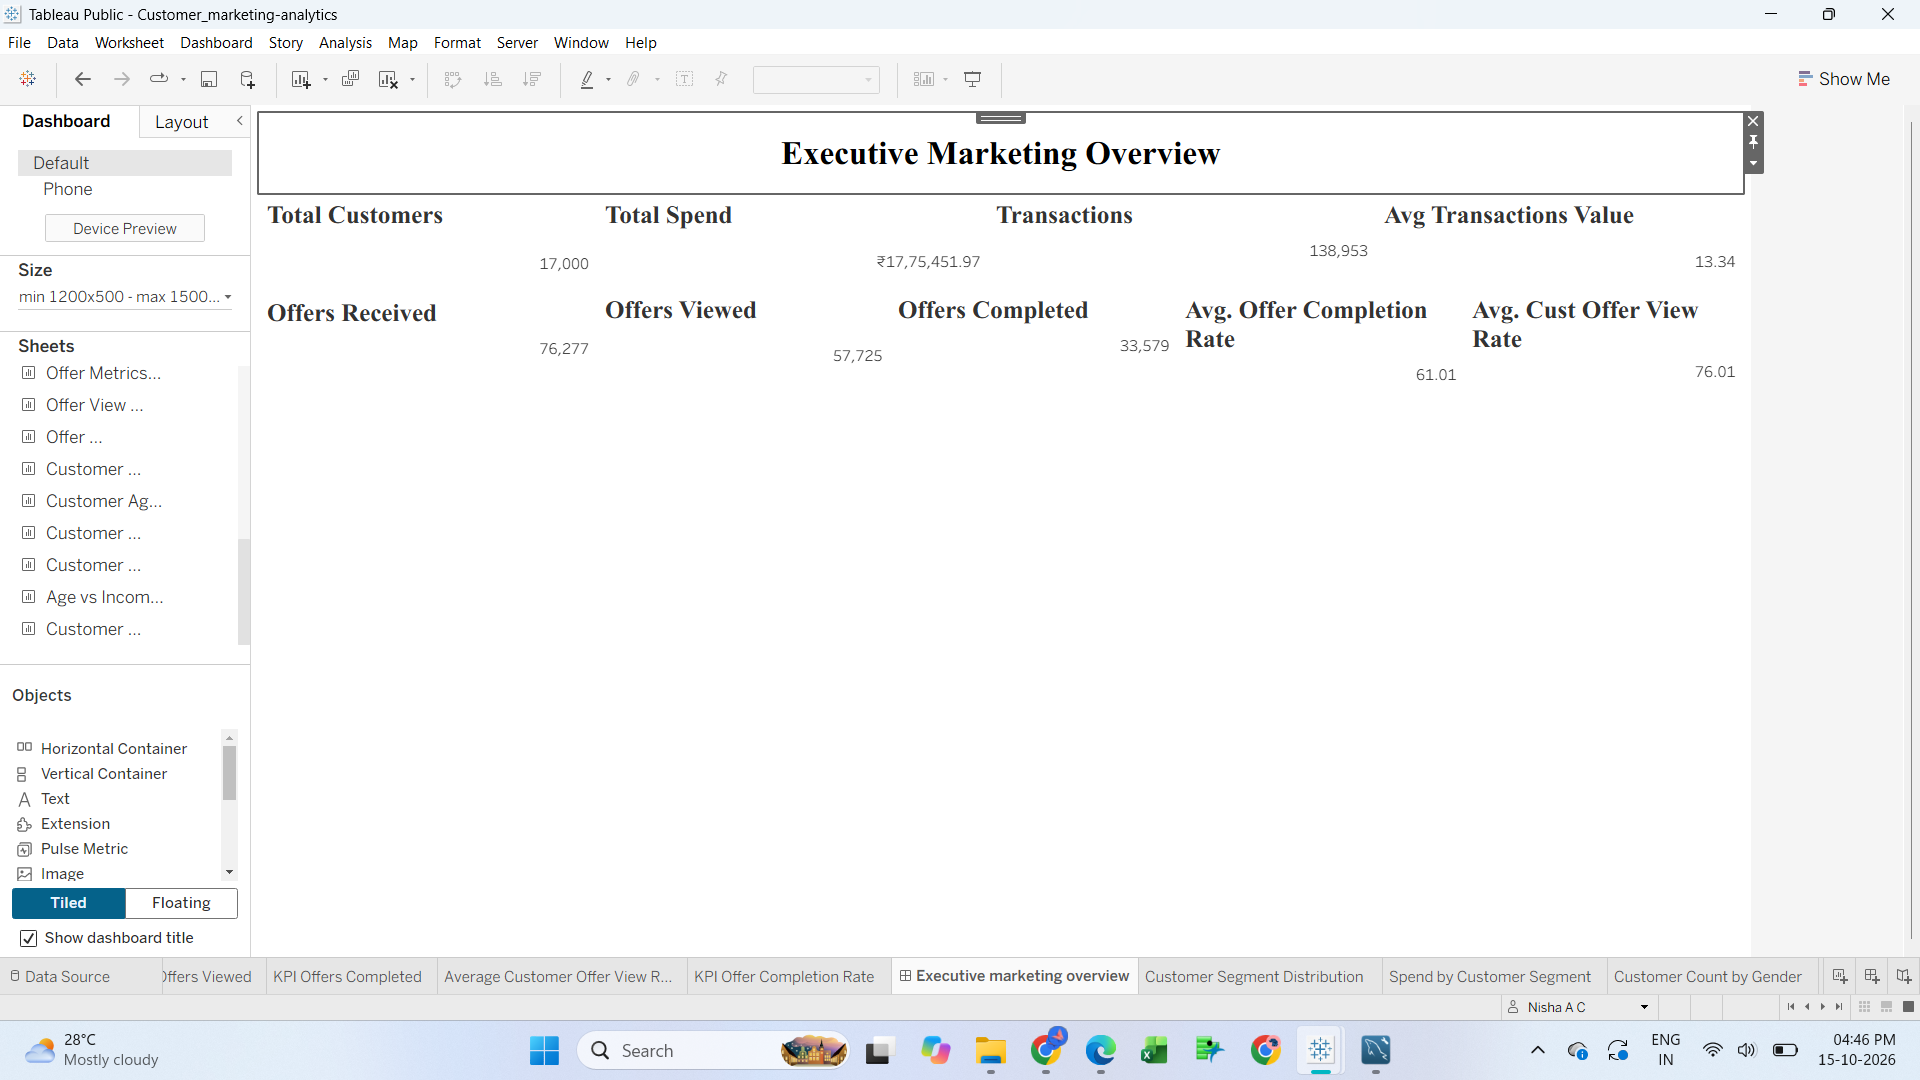

The dashboard page shown, as its layout file describes it:
{"tool":"tableau","page":{"name":"Executive marketing overview","canvas":[1000,1000],"units":"permille","ordinal":2},"visuals":[{"type":"title","box":[5.3,9.4,989.3,93.9]},{"type":"worksheet","title":"KPI Total Customers","mark":"Automatic","box":[5.3,103.3,225.3,115]},{"type":"worksheet","title":"KPI Total Spend","mark":"Automatic","box":[230.6,103.3,260.7,112]},{"type":"worksheet","title":"KPI Total Transactions","mark":"Automatic","box":[491.3,103.3,258.7,112]},{"type":"worksheet","title":"KPI Avg Transaction Value","mark":"Automatic","box":[750,103.3,244.7,112]},{"type":"worksheet","title":"KPI Offers Viewed","mark":"Automatic","box":[230.6,215.3,195.3,109.2]},{"type":"worksheet","title":"KPI Offers Completed","mark":"Automatic","box":[426,215.3,191.3,110.3]},{"type":"worksheet","title":"KPI Offer Completion Rate","mark":"Automatic","box":[617.3,215.3,191.3,119.7]},{"type":"worksheet","title":"Average Customer Offer View Rate","mark":"Automatic","box":[808.6,215.3,186,112.7]},{"type":"worksheet","title":"KPI Offers Received","mark":"Automatic","box":[5.3,218.3,225.3,95.1]}]}

Visuals, with their boxes on the dashboard's canvas, which has no fixed pixel size, in thousandths of its width and height (x1, y1, x2, y2). These are canvas units, not pixel positions in the 1920x1080 screenshot, which may show the page scaled, cropped or inside an application window:
title: <region>5, 9, 995, 103</region>
"KPI Total Customers" worksheet: <region>5, 103, 231, 218</region>
"KPI Total Spend" worksheet: <region>231, 103, 491, 215</region>
"KPI Total Transactions" worksheet: <region>491, 103, 750, 215</region>
"KPI Avg Transaction Value" worksheet: <region>750, 103, 995, 215</region>
"KPI Offers Viewed" worksheet: <region>231, 215, 426, 324</region>
"KPI Offers Completed" worksheet: <region>426, 215, 617, 326</region>
"KPI Offer Completion Rate" worksheet: <region>617, 215, 809, 335</region>
"Average Customer Offer View Rate" worksheet: <region>809, 215, 995, 328</region>
"KPI Offers Received" worksheet: <region>5, 218, 231, 313</region>
